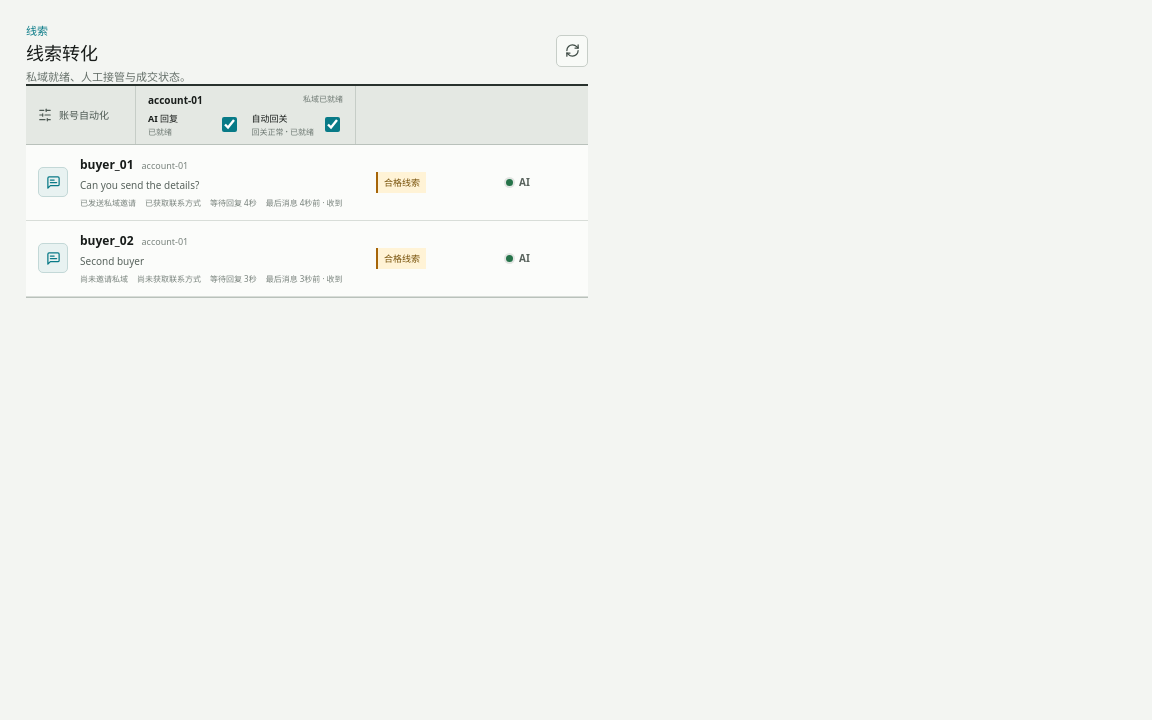
Test: keeps the newest conversation when an older detail response arrives late
What coordinates should you click on to do the following:
click the button "buyer_01"
I would click on:
 (107, 164)
Its box is x1=26 y1=144 x2=588 y2=220.
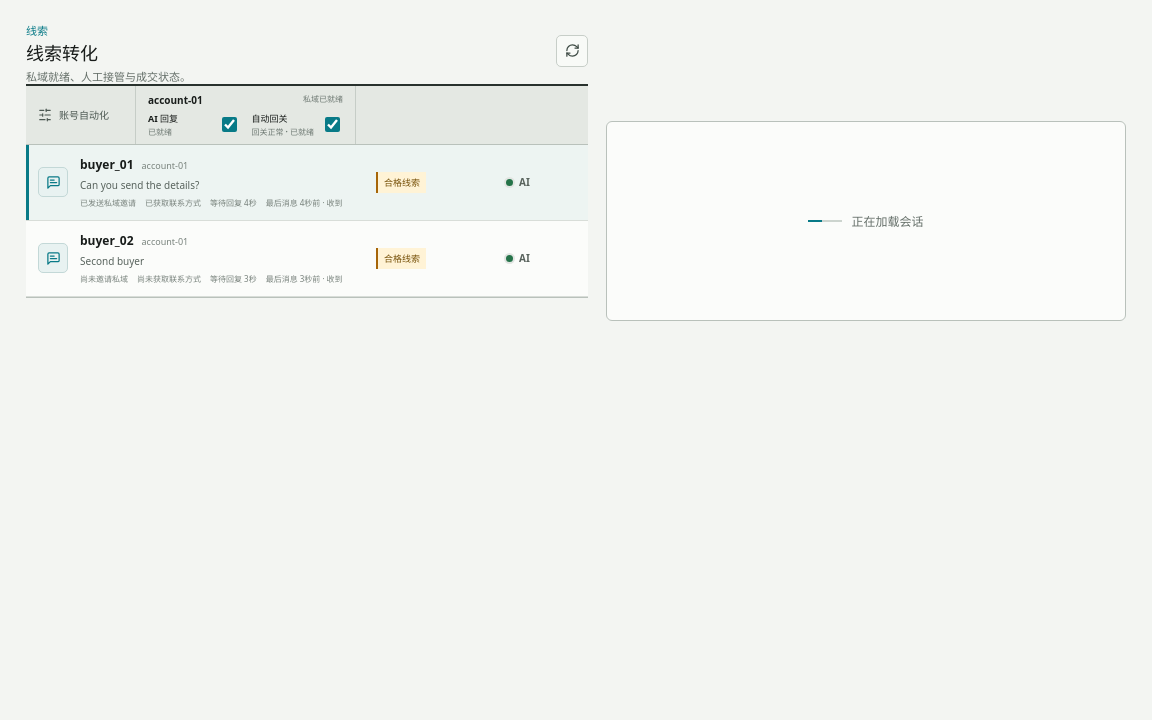
What coordinates should you click on to do the following:
click the button "buyer_02"
I would click on:
 (107, 240)
Its box is x1=26 y1=220 x2=588 y2=296.
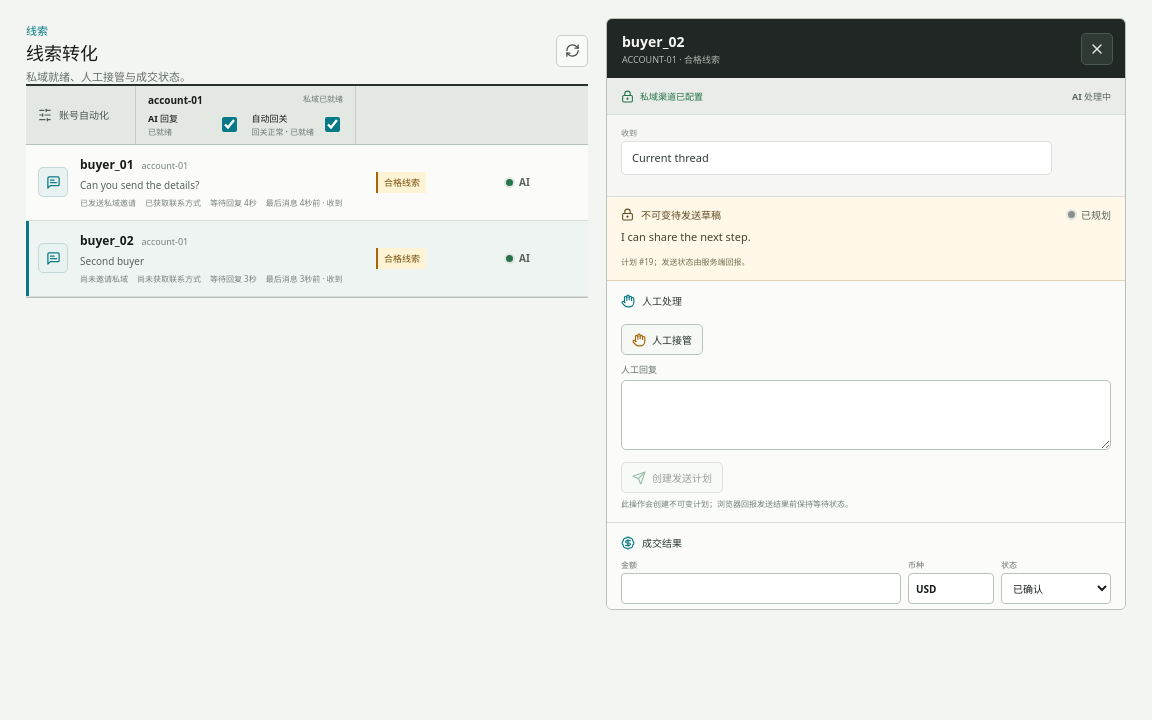
Expected: the text "Current thread" is shown, x1=621 y1=141 x2=1052 y2=175
